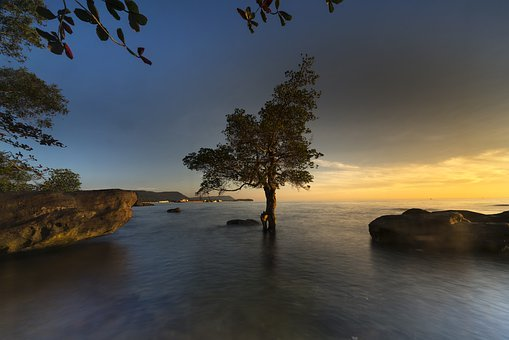sea: (27, 204, 509, 337)
sky: (55, 3, 507, 205)
tree: (199, 59, 313, 234)
